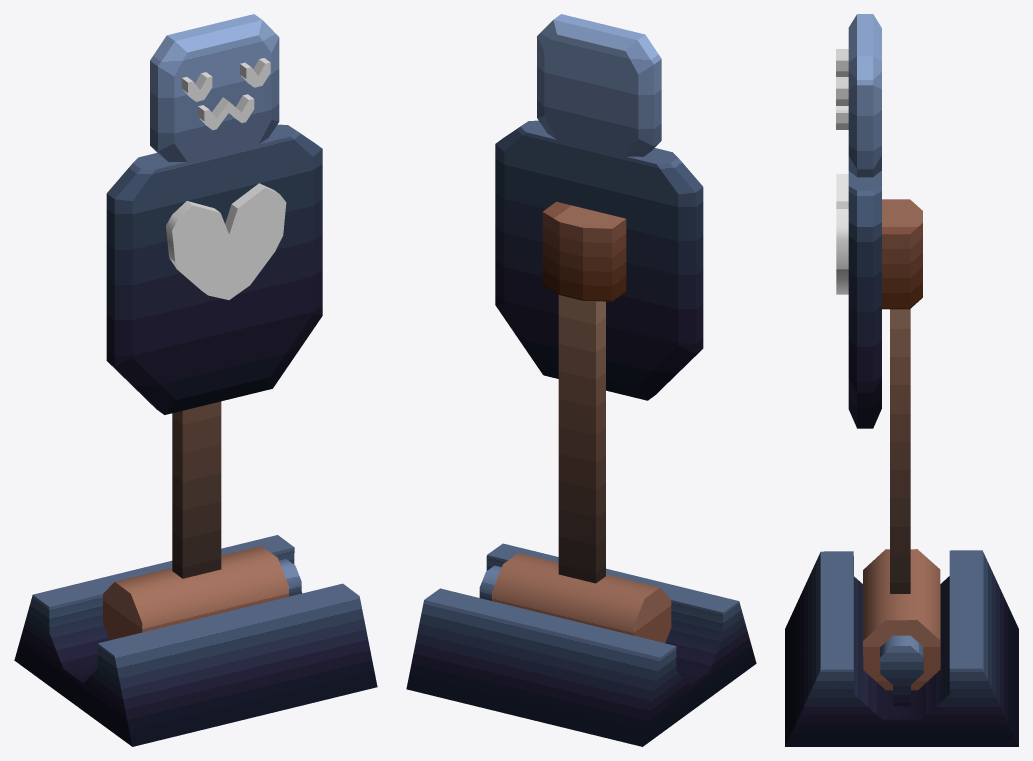
The picture shows the model from 3 angles, left to right: view 1: azimuth 30°, elevation 25°; view 2: azimuth 150°, elevation 25°; view 3: azimuth 270°, elevation 25°; orthographic projection. The views are drawn at different scales.
Visible parts, largest first — view 1: rama.001, podstawka.001, gl.001; view 2: rama.001, podstawka.001; view 3: podstawka.001, rama.001, gl.001.
Part boxes in pixels (x1,y1,x2,y2): rama.001: (103, 14, 322, 640); podstawka.001: (14, 535, 377, 746); gl.001: (166, 58, 286, 299); rama.001: (492, 14, 703, 642); podstawka.001: (406, 543, 756, 746); podstawka.001: (785, 550, 1018, 746); rama.001: (848, 14, 940, 690); gl.001: (836, 49, 848, 294).
Size of the model in its own units: 328 by 843 by 273.
